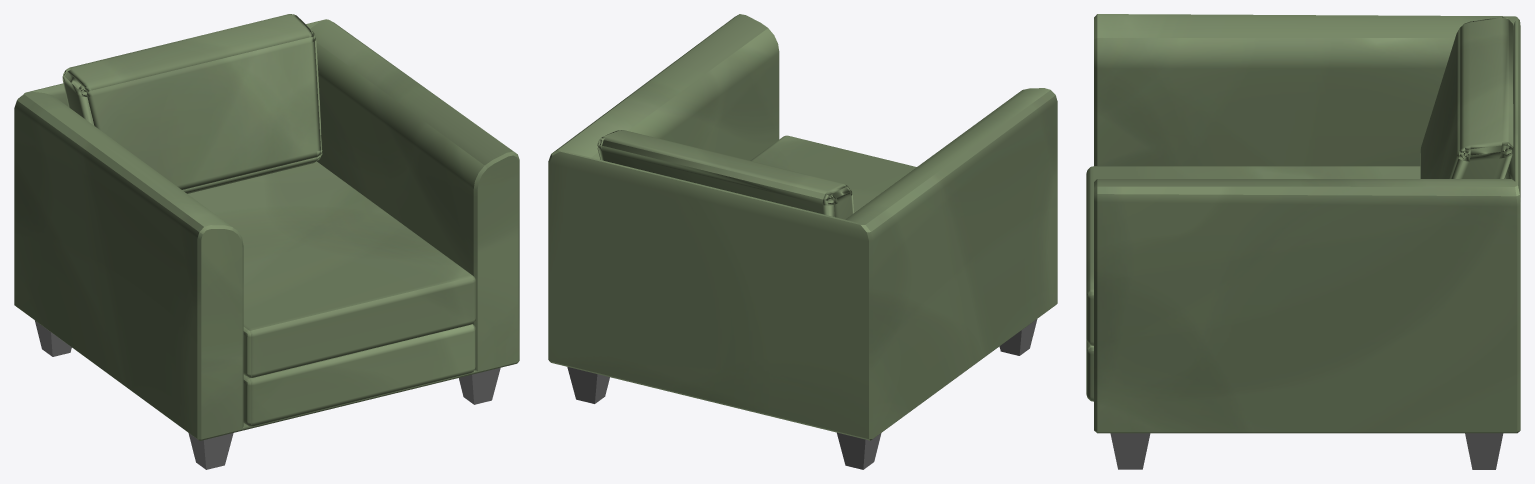
Rendered from Lounge_Chair.fbx.
3 views of the same model, side by side, from view 1: azimuth 30°, elevation 25°; view 2: azimuth 150°, elevation 25°; view 3: azimuth 270°, elevation 25° (orthographic). The views are drawn at different scales.
Parts seen in each view (by area): view 1: pCube41; view 2: pCube41; view 3: pCube41.
Boxes of the visible parts, x1,y1,x2,y2 form: pCube41: [14, 14, 519, 469]; pCube41: [548, 14, 1057, 469]; pCube41: [1086, 14, 1520, 469].
Size of the model in its own units: 4.8 by 3.85 by 4.89.
